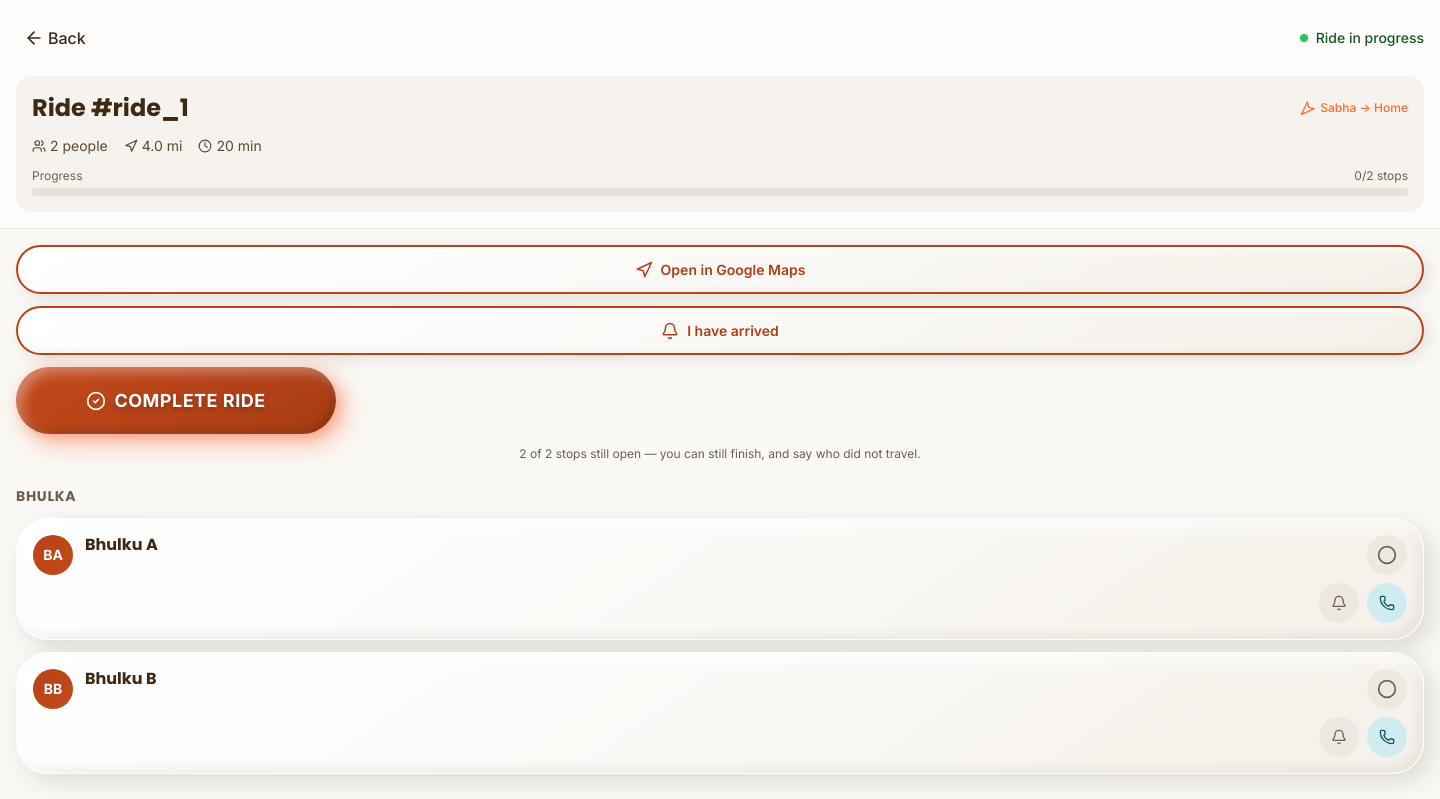
the return leg › tells the Sarthi what ticking someone records
Click the button "Complete Ride" at [176, 400], box [16,367,336,434]
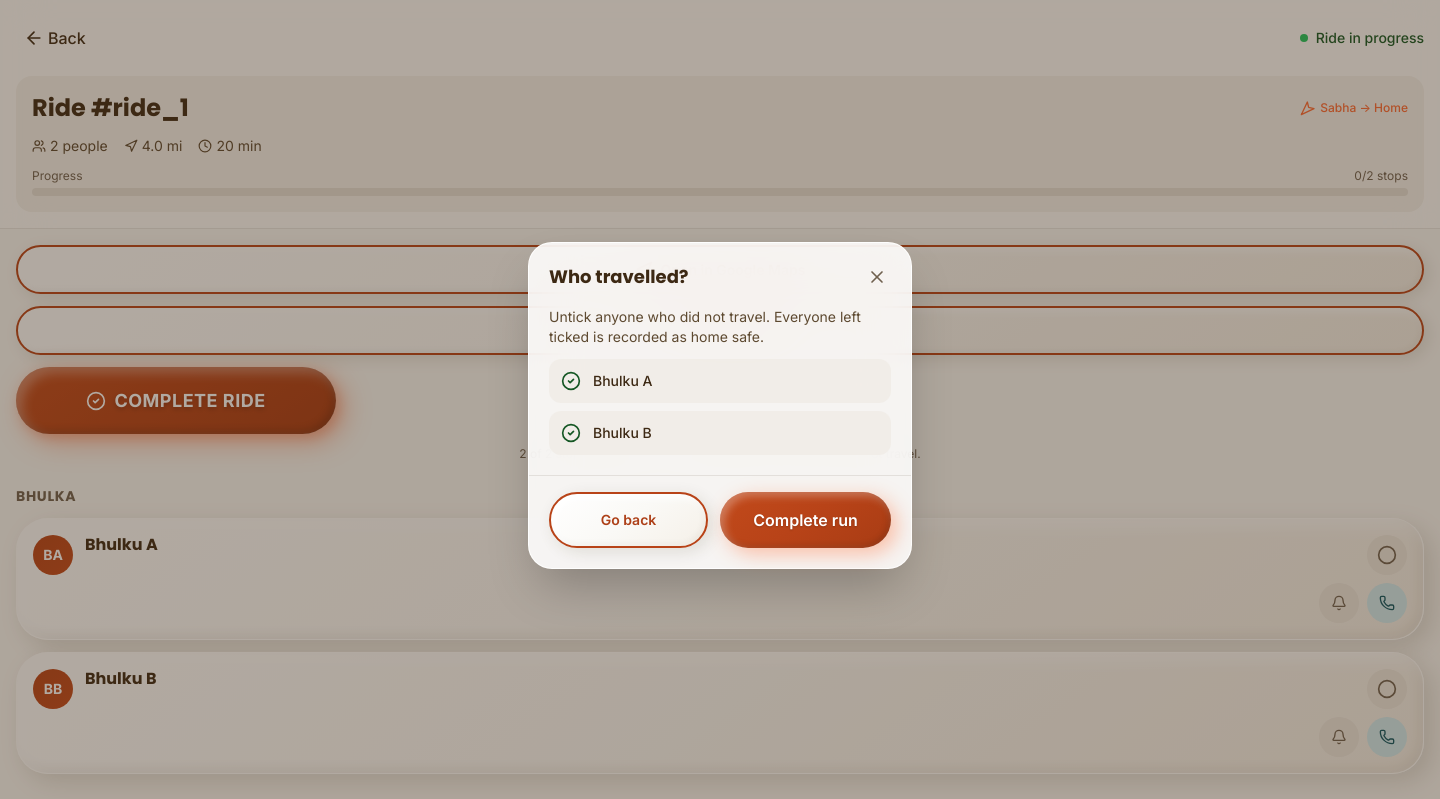
Check: the text "home safe" is shown, box [691,328,760,344]
